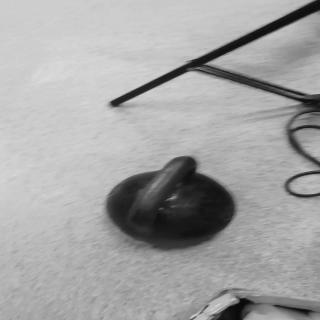kettlebell: (108, 157, 239, 245)
